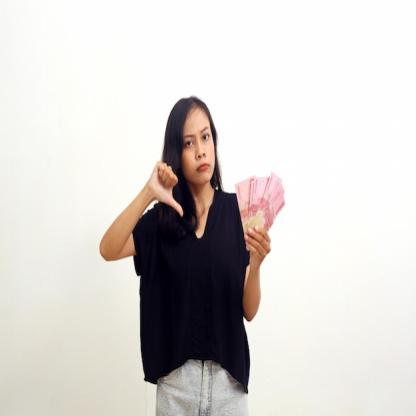thumb_down: (150, 158, 186, 218)
